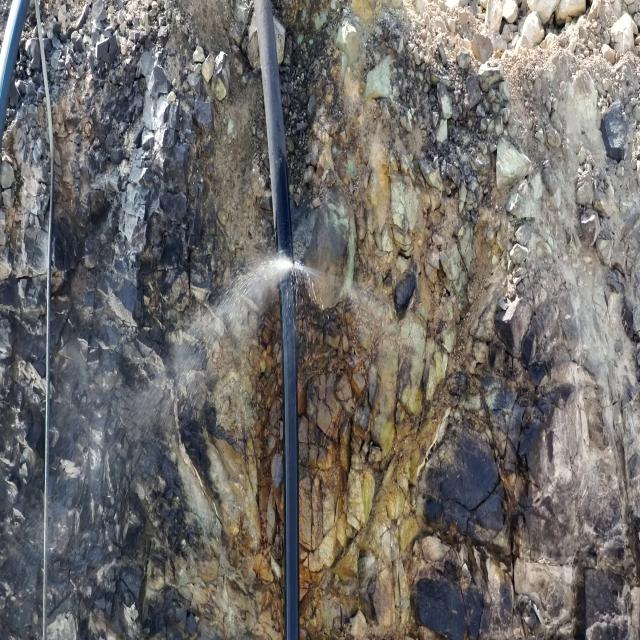leak: (128, 234, 342, 460)
